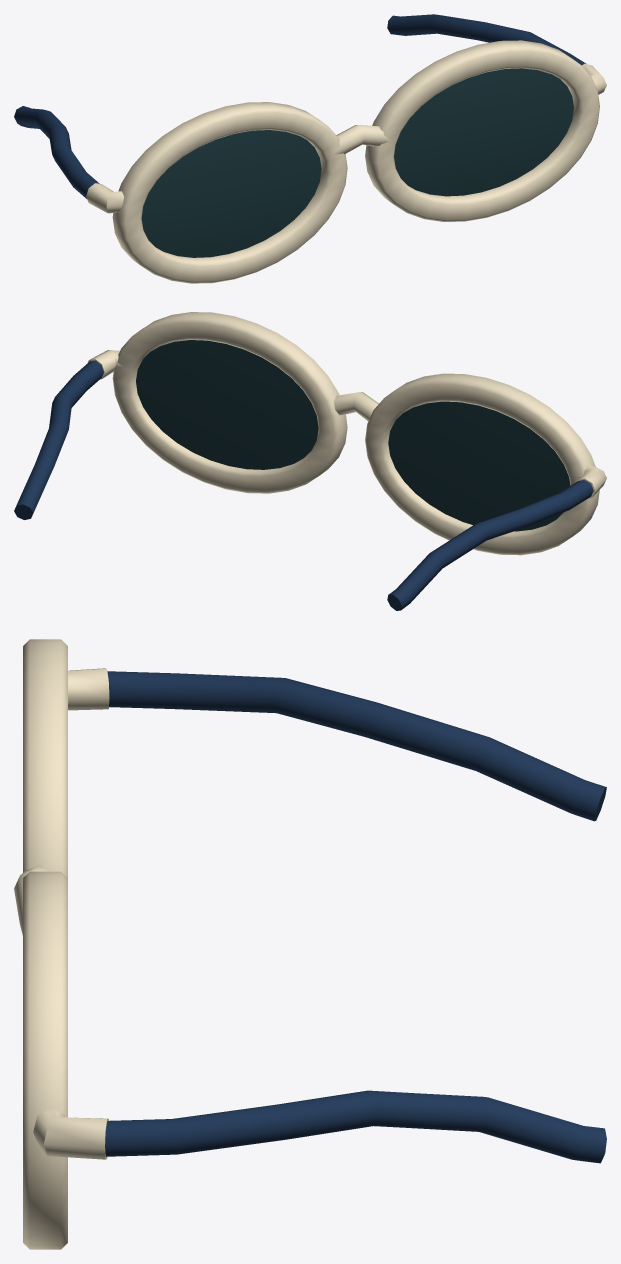
File: KD_Sunglasses_Set.fbx
3 renders of one model, top to bottom at view 1: azimuth 30°, elevation 25°; view 2: azimuth 150°, elevation 25°; view 3: azimuth 270°, elevation 25°, orthographic. The views are drawn at different scales.
Parts seen in each view (by area): view 1: KD_Sunglasses_Set; view 2: KD_Sunglasses_Set; view 3: KD_Sunglasses_Set.
Boxes of the visible parts, left/top/right/bottom form: KD_Sunglasses_Set: left=14, top=14, right=606, bottom=283; KD_Sunglasses_Set: left=14, top=312, right=606, bottom=610; KD_Sunglasses_Set: left=14, top=639, right=606, bottom=1249.
Bounding box in the file's own units: 0.1978 × 0.062 × 0.1057.
Materials: 1 (1 with a texture image).
